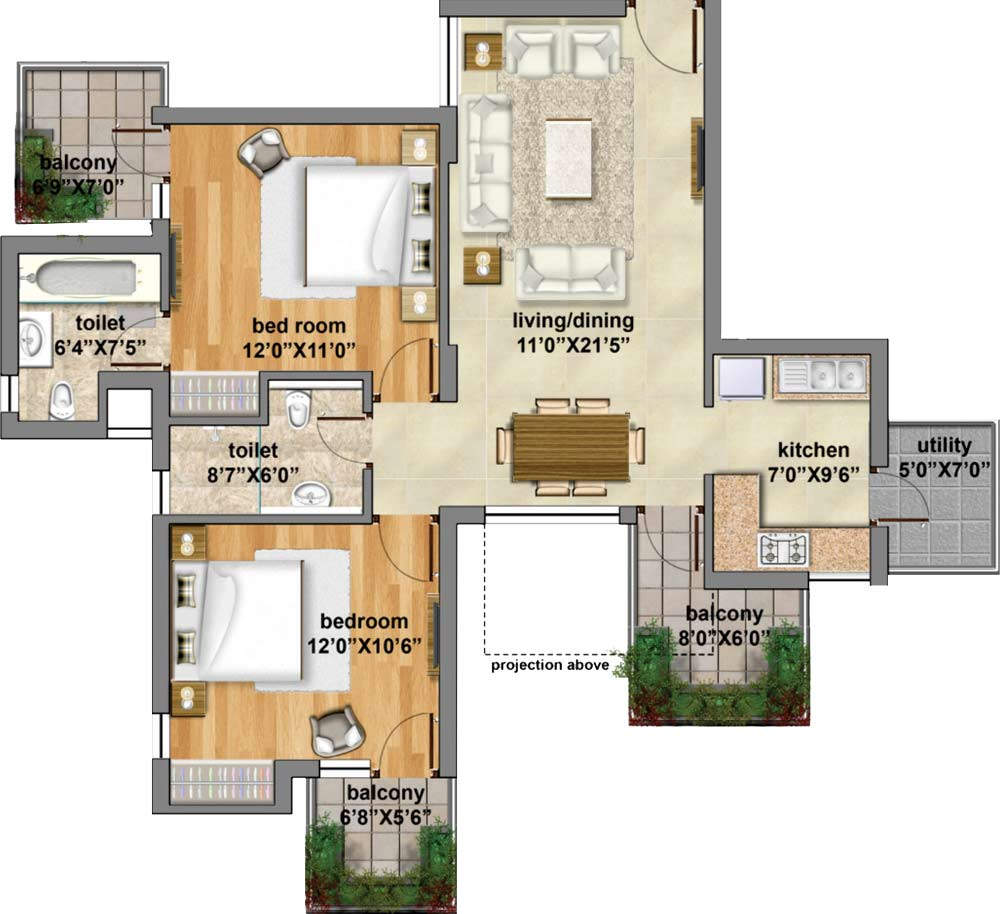room: (440, 1, 713, 523), (152, 514, 458, 777), (162, 108, 448, 379), (704, 338, 890, 585), (630, 571, 811, 726), (1, 236, 170, 390), (18, 62, 168, 221), (305, 761, 460, 914), (257, 373, 372, 526), (260, 371, 372, 525)
